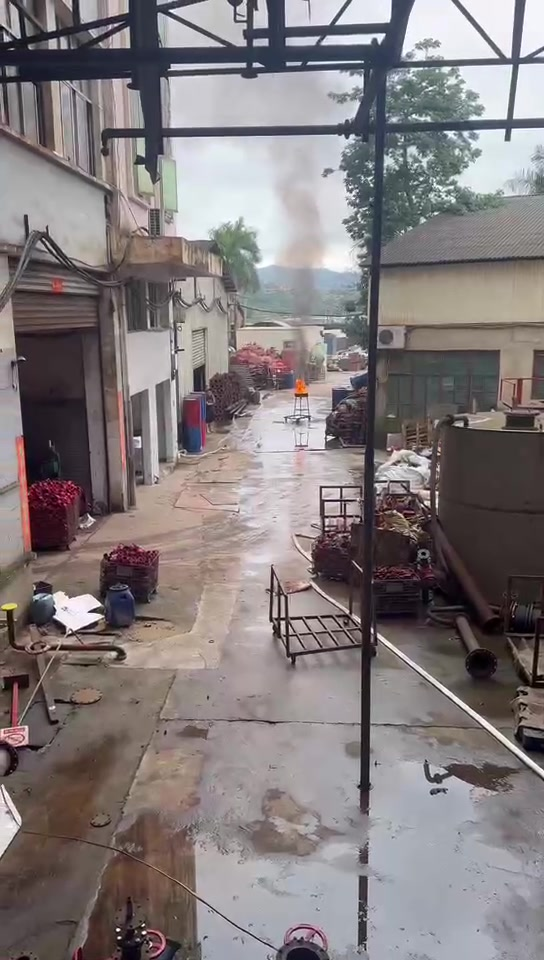fire: (295, 378, 307, 393)
